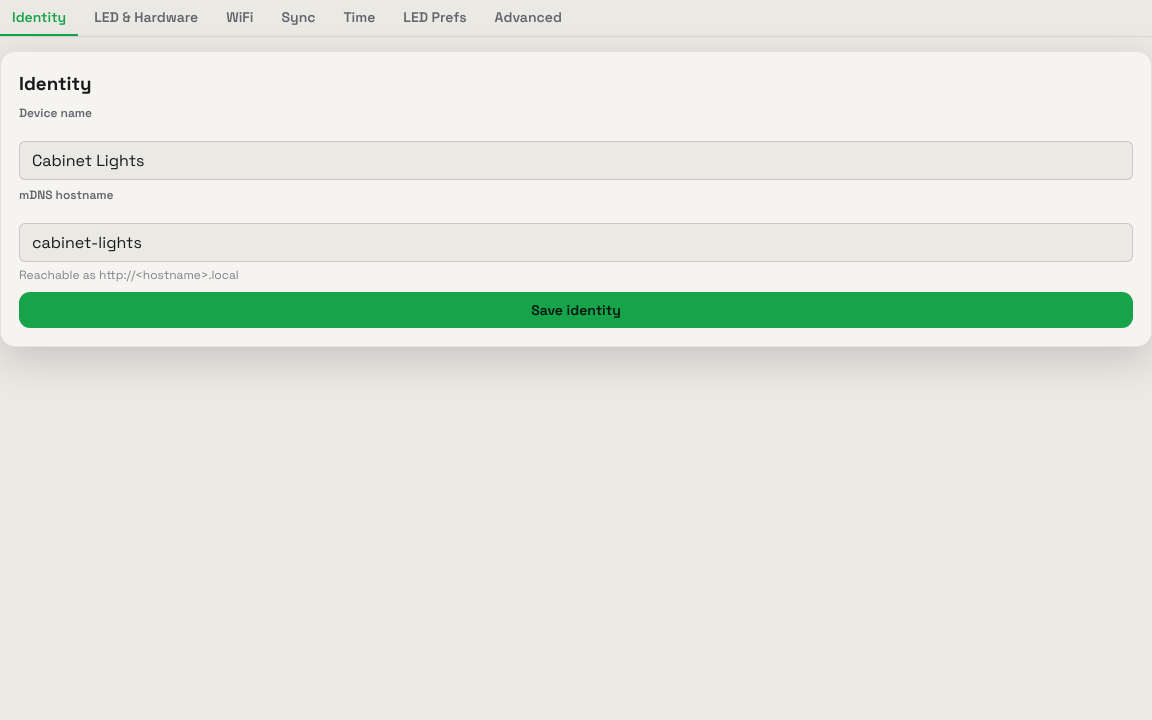
ConfigTab › save runs the dry-run first and opens the diff modal
Replace the text in the field labelled "Device name" with "Kitchen": [576, 161] box [19,141,1133,180]
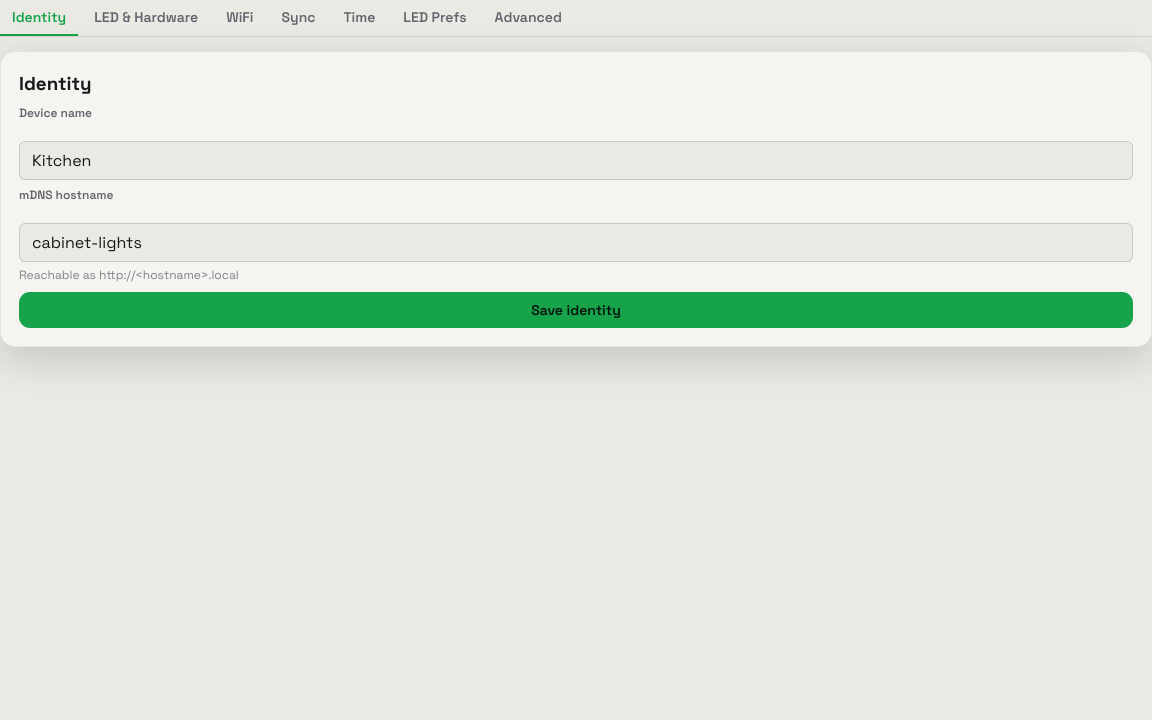
Click the button "Save identity": [576, 310] box [19,292,1133,328]
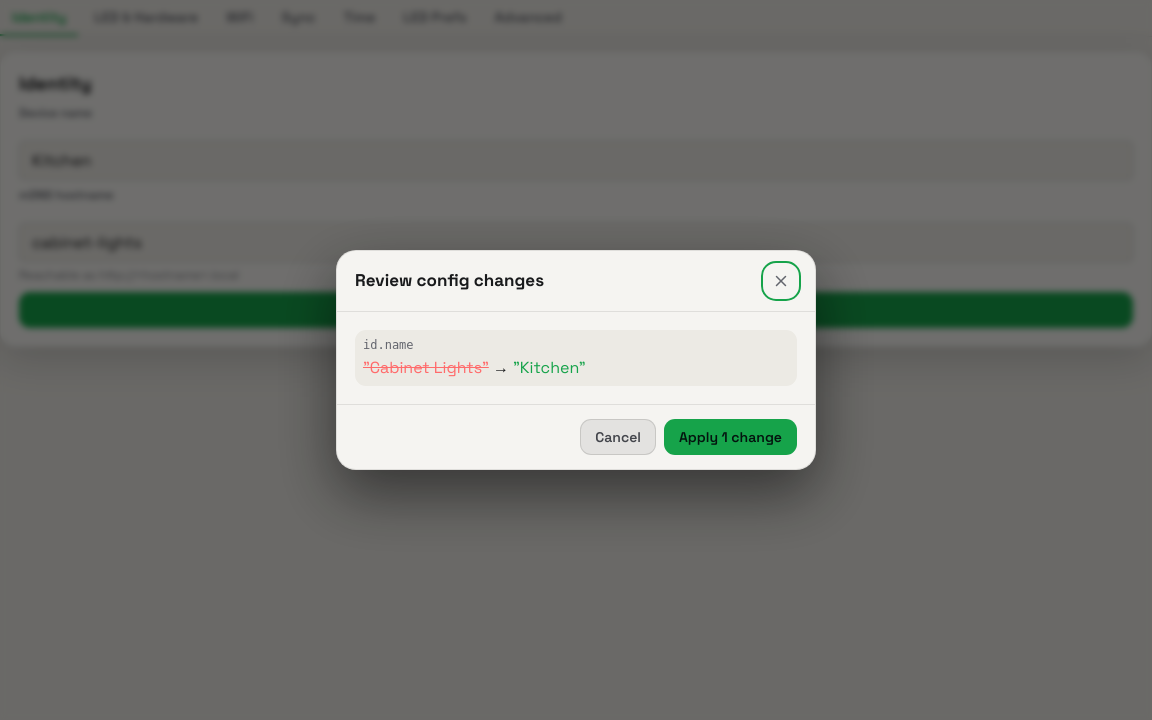
Expected: the text "id.name" is shown, [363,338,414,352]
